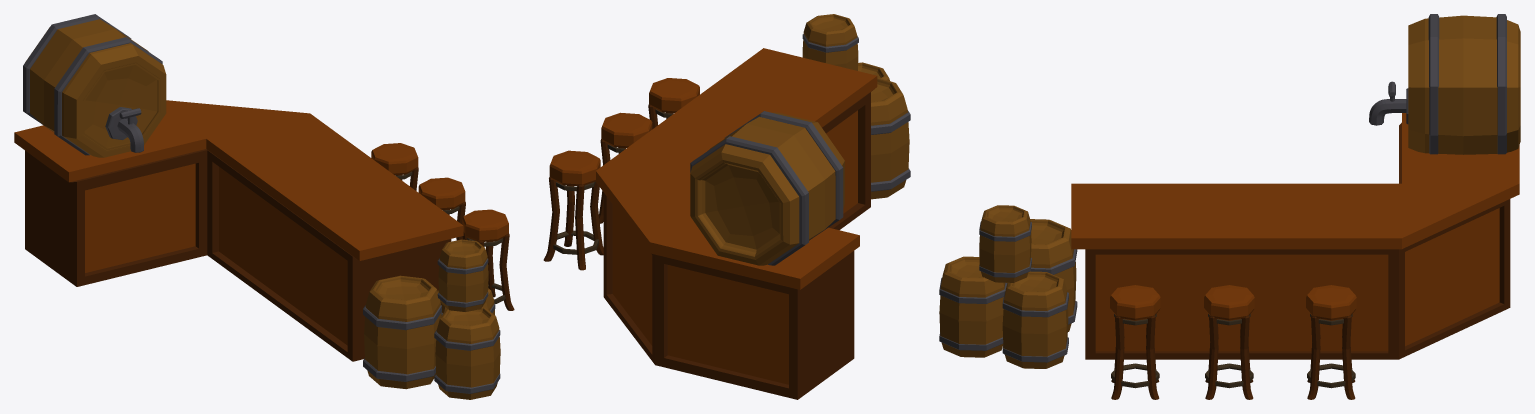
Rendered from TavernMøbler.fbx.
The picture shows the model from 3 angles, left to right: view 1: azimuth 30°, elevation 25°; view 2: azimuth 150°, elevation 25°; view 3: azimuth 270°, elevation 25°; orthographic projection. The views are drawn at different scales.
Parts seen in each view (by area): view 1: Bar, BeerBarrel, BigBarrel, MediumBarrel.001, SmallBarrel, Chair, Chair.001, Chair.002; view 2: Bar, BeerBarrel, Chair.002, BigBarrel, SmallBarrel, Chair.001, Chair; view 3: Bar, BeerBarrel, MediumBarrel, MediumBarrel.001, SmallBarrel, Chair.001, Chair.002, Chair, BigBarrel.
Boxes of the visible parts, <box> form: Bar: <box>14,100,463,361</box>; BeerBarrel: <box>23,14,166,157</box>; BigBarrel: <box>363,275,441,389</box>; MediumBarrel.001: <box>434,307,500,399</box>; SmallBarrel: <box>437,239,488,312</box>; Chair: <box>462,209,514,310</box>; Chair.001: <box>418,177,465,240</box>; Chair.002: <box>371,143,418,190</box>; Bar: <box>596,48,877,399</box>; BeerBarrel: <box>690,111,844,265</box>; Chair.002: <box>543,150,603,270</box>; BigBarrel: <box>871,77,910,199</box>; SmallBarrel: <box>802,14,858,70</box>; Chair.001: <box>599,112,652,223</box>; Chair: <box>648,78,699,129</box>; Bar: <box>1071,113,1519,359</box>; BeerBarrel: <box>1369,14,1520,154</box>; MediumBarrel: <box>1002,271,1068,368</box>; MediumBarrel.001: <box>939,256,1007,357</box>; SmallBarrel: <box>979,205,1031,282</box>; Chair.001: <box>1204,285,1254,399</box>; Chair.002: <box>1306,285,1356,399</box>; Chair: <box>1110,285,1160,399</box>; BigBarrel: <box>1030,219,1077,331</box>.
Bounding box in the file's own units: 636 × 437 × 947.
